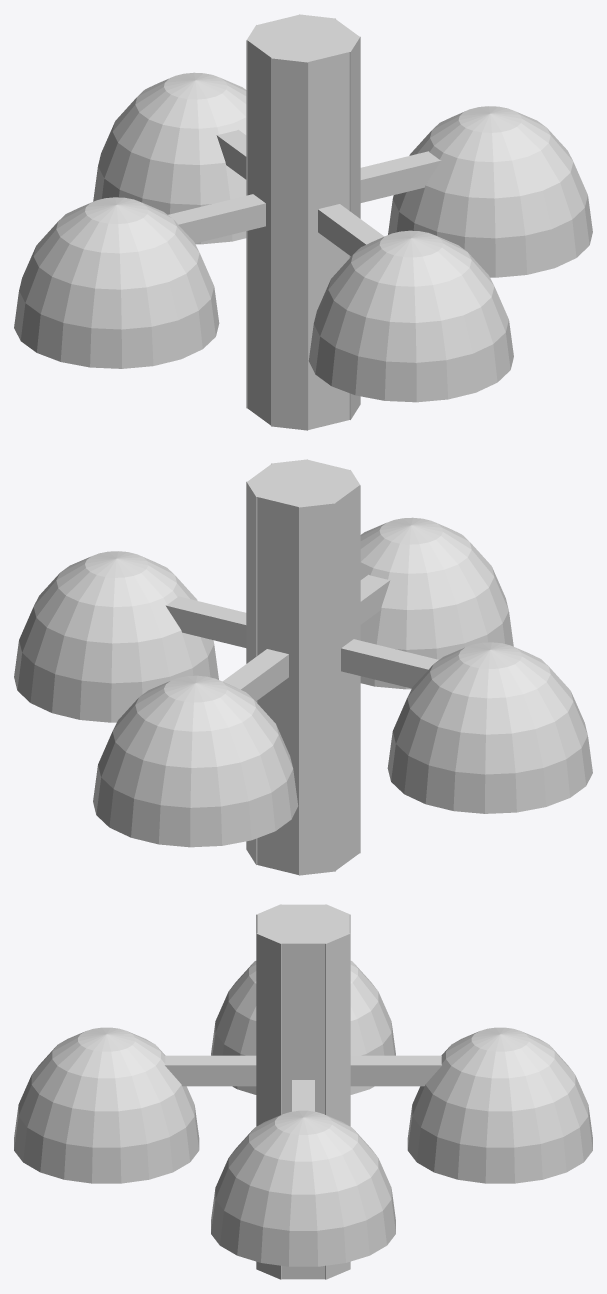
File: dc_metro_roof_j_light_pole_2.obj
3 renders of one model, top to bottom at view 1: azimuth 30°, elevation 25°; view 2: azimuth 150°, elevation 25°; view 3: azimuth 270°, elevation 25°, orthographic. The views are drawn at different scales.
Parts seen in each view (by area): view 1: sphere, cube; view 2: sphere, cube; view 3: sphere, cube.
Boxes of the visible parts, <box> form: sphere: <box>14,72,592,402</box>; cube: <box>168,14,441,430</box>; sphere: <box>14,517,592,847</box>; cube: <box>165,459,438,875</box>; sphere: <box>14,961,592,1266</box>; cube: <box>165,904,441,1279</box>.
Size of the model in its own units: 1.56 by 1 by 1.56.
1 material, 1 textured.
